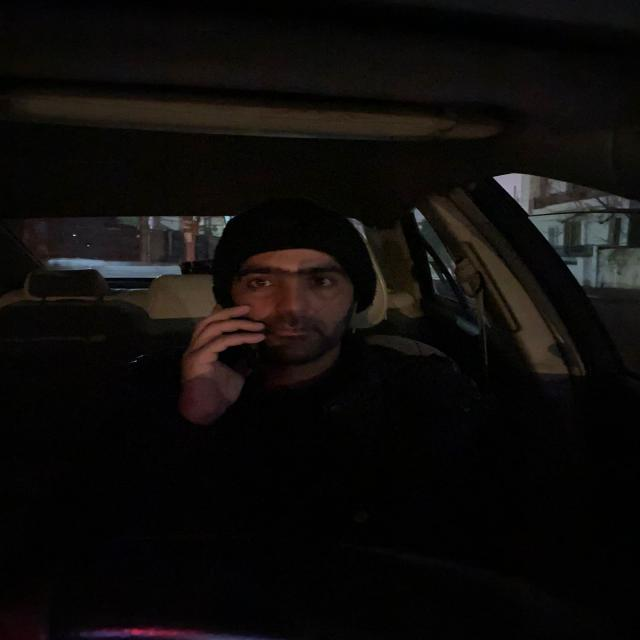mobile: (203, 292, 283, 378)
person: (228, 215, 359, 358)
